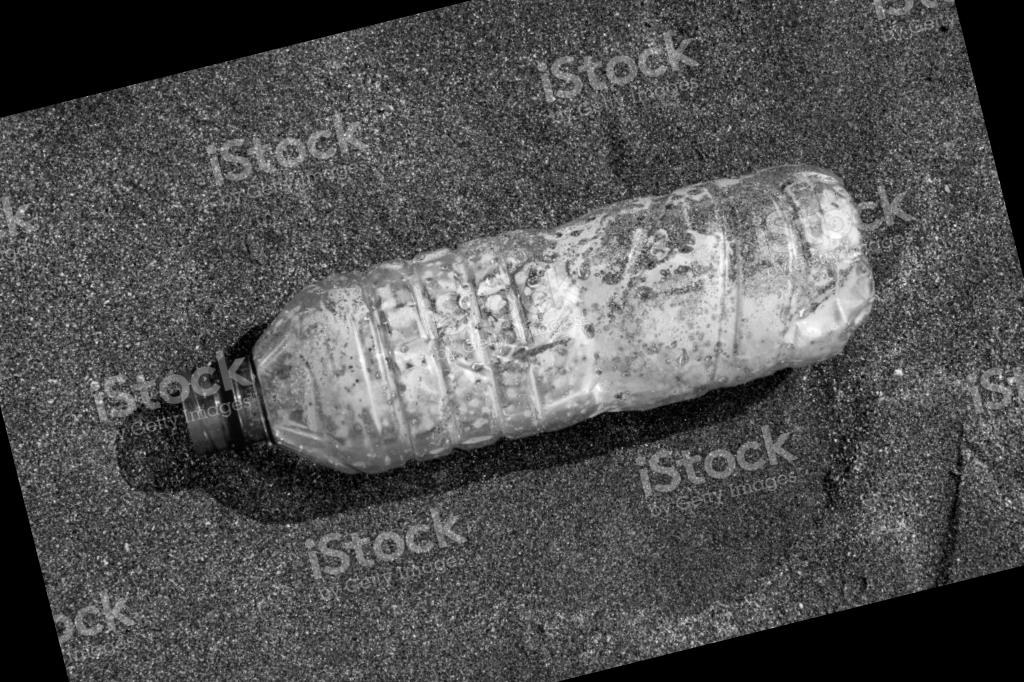plastic: (119, 124, 922, 584)
